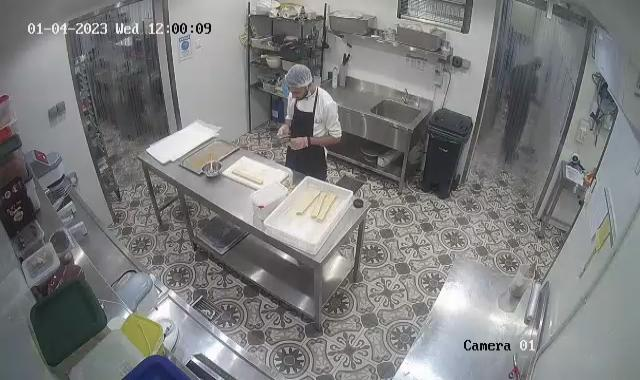hairnet: (282, 65, 314, 92)
